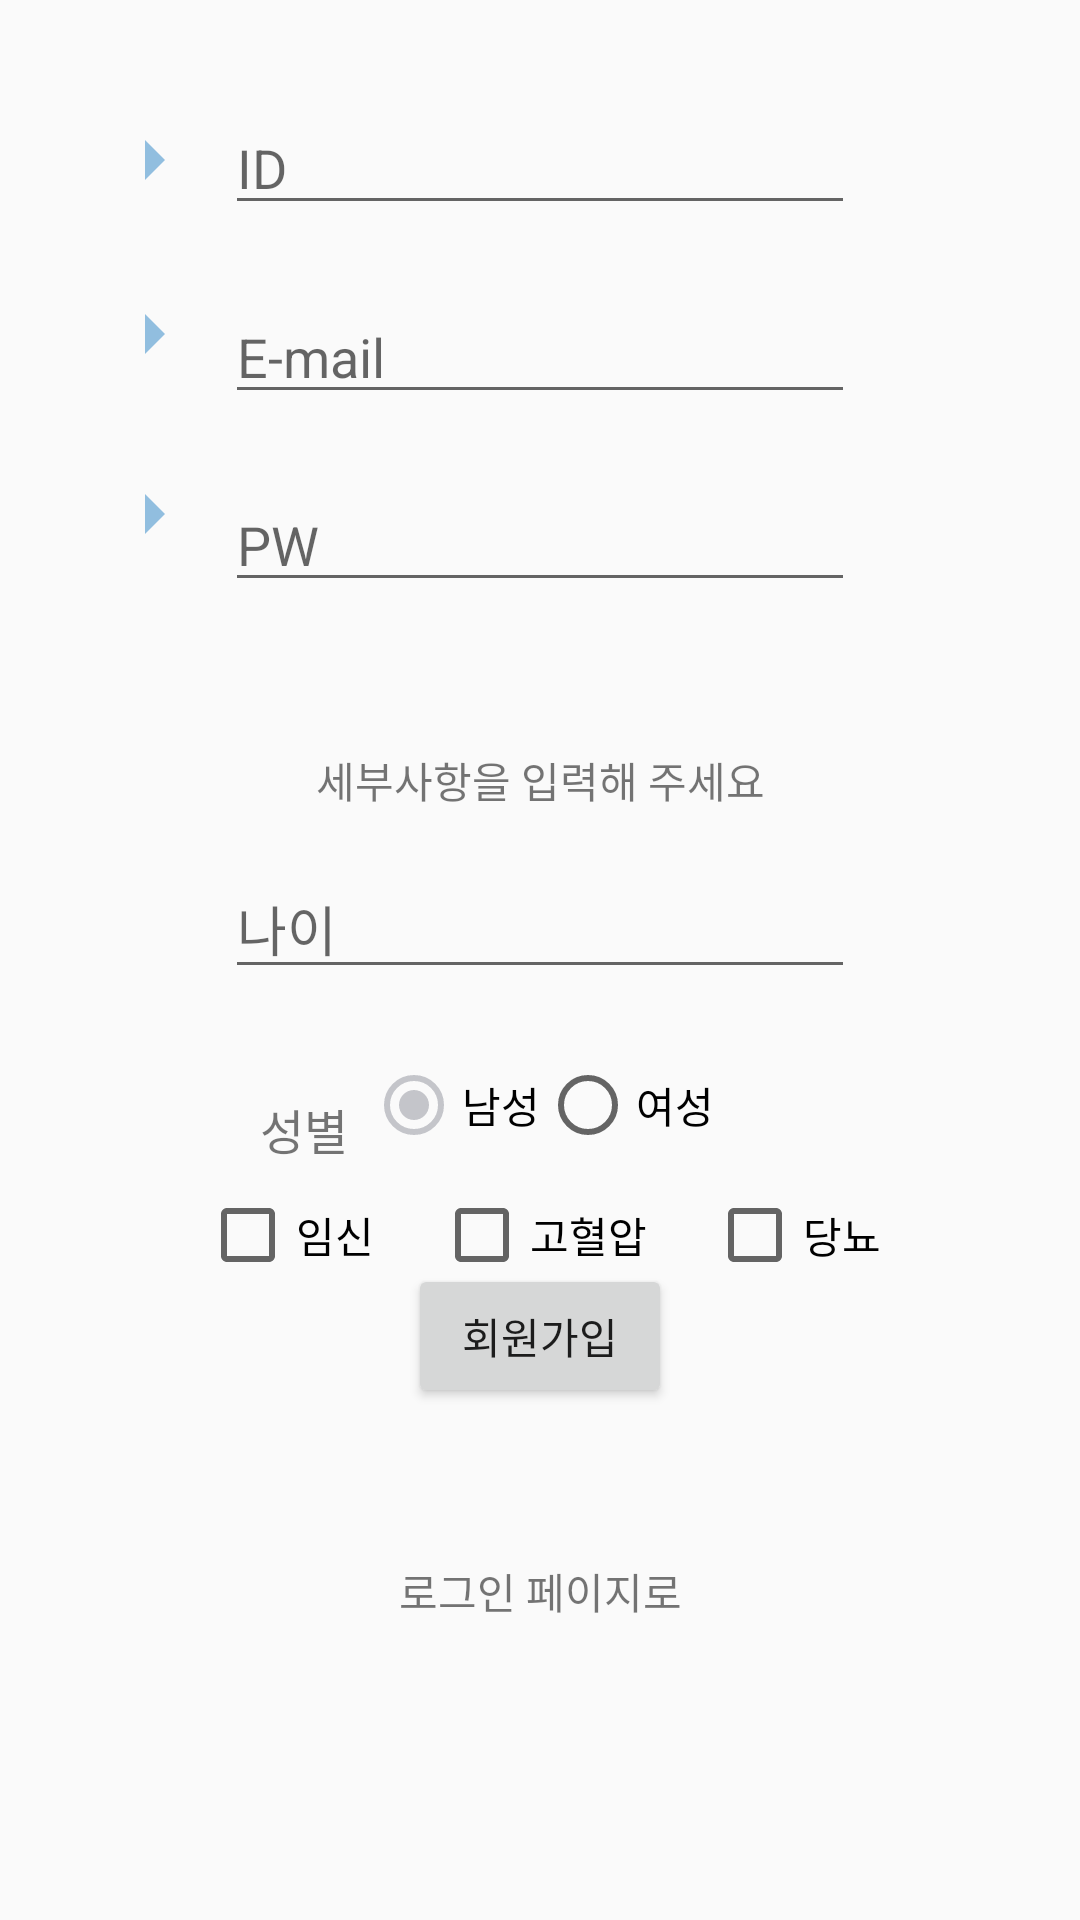

Named icons in this screenshot (1080px x 1920px) and their bounding boxes, {"left": x1, "top": y1, "right": x2, "bottom": y2}:
arrow right: {"left": 145, "top": 140, "right": 165, "bottom": 180}, {"left": 145, "top": 314, "right": 165, "bottom": 354}, {"left": 145, "top": 494, "right": 165, "bottom": 534}
